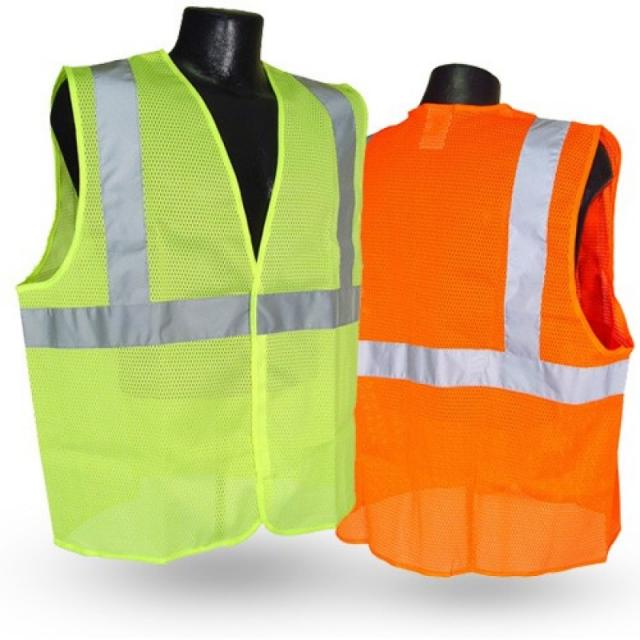Reflective-Jacket: (11, 36, 390, 572), (341, 82, 634, 596)
